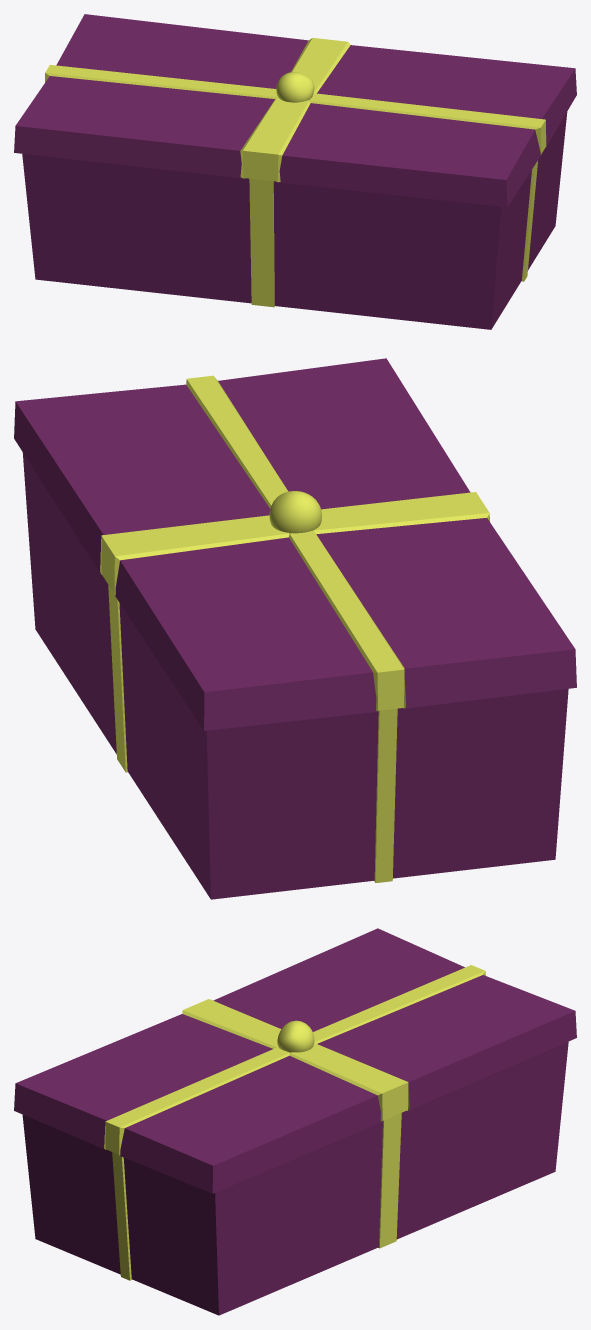
File: GiftBoxWide.fbx
3 renders of one model, top to bottom at view 1: azimuth 30°, elevation 25°; view 2: azimuth 150°, elevation 25°; view 3: azimuth 270°, elevation 25°, orthographic. The views are drawn at different scales.
Visible parts, largest first — view 1: Cube.005, Sphere.005; view 2: Cube.005, Sphere.005; view 3: Cube.005, Sphere.005.
Boxes of the visible parts, left/top/right/bottom form: Cube.005: left=14, top=14, right=576, bottom=329; Sphere.005: left=276, top=72, right=314, bottom=102; Cube.005: left=14, top=358, right=576, bottom=899; Sphere.005: left=269, top=491, right=321, bottom=533; Cube.005: left=14, top=928, right=576, bottom=1315; Sphere.005: left=277, top=1020, right=314, bottom=1052.
Size of the model in its own units: 78.86 by 28.25 by 78.57.
